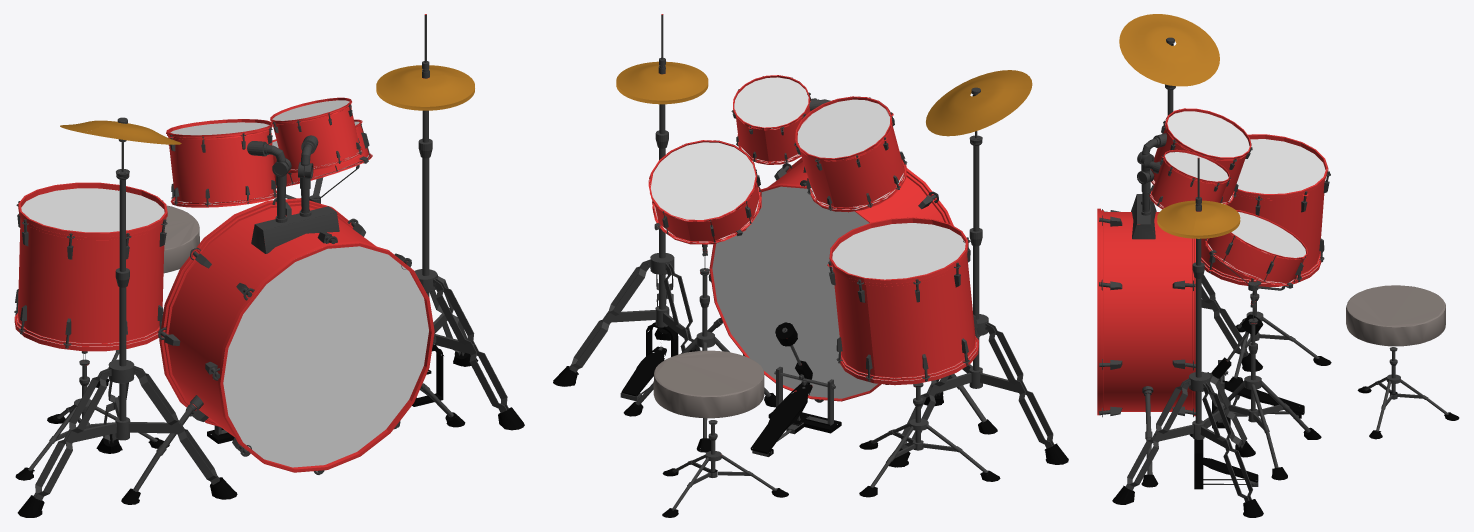
File: Drumset.fbx
The picture shows the model from 3 angles, left to right: view 1: azimuth 30°, elevation 25°; view 2: azimuth 150°, elevation 25°; view 3: azimuth 270°, elevation 25°; orthographic projection. The views are drawn at different scales.
Parts seen in each view (by area): view 1: drums_set, drums_set.001, drums_set.002, drums_set.004, drums_set.003, drums_set.005; view 2: drums_set.001, drums_set, drums_set.002, drums_set.004, drums_set.003, drums_set.005; view 3: drums_set, drums_set.002, drums_set.001, drums_set.004, drums_set.005, drums_set.003.
Boxes of the visible parts, left/top/right/bottom form: drums_set: left=14, top=14, right=434, bottom=472; drums_set.001: left=17, top=100, right=428, bottom=467; drums_set.002: left=14, top=14, right=508, bottom=500; drums_set.004: left=60, top=65, right=474, bottom=144; drums_set.003: left=15, top=176, right=524, bottom=517; drums_set.005: left=163, top=205, right=199, bottom=273; drums_set.001: left=650, top=77, right=976, bottom=398; drums_set: left=648, top=14, right=979, bottom=454; drums_set.002: left=569, top=14, right=1054, bottom=510; drums_set.004: left=616, top=61, right=1032, bottom=136; drums_set.003: left=553, top=94, right=1068, bottom=517; drums_set.005: left=653, top=350, right=764, bottom=418; drums_set: left=1097, top=108, right=1328, bottom=416; drums_set.002: left=1099, top=37, right=1448, bottom=501; drums_set.001: left=1150, top=111, right=1325, bottom=284; drums_set.004: left=1119, top=14, right=1240, bottom=238; drums_set.005: left=1346, top=285, right=1445, bottom=346; drums_set.003: left=1112, top=44, right=1459, bottom=517.
Bounding box in the file's own units: 21846 × 16098 × 16188.
